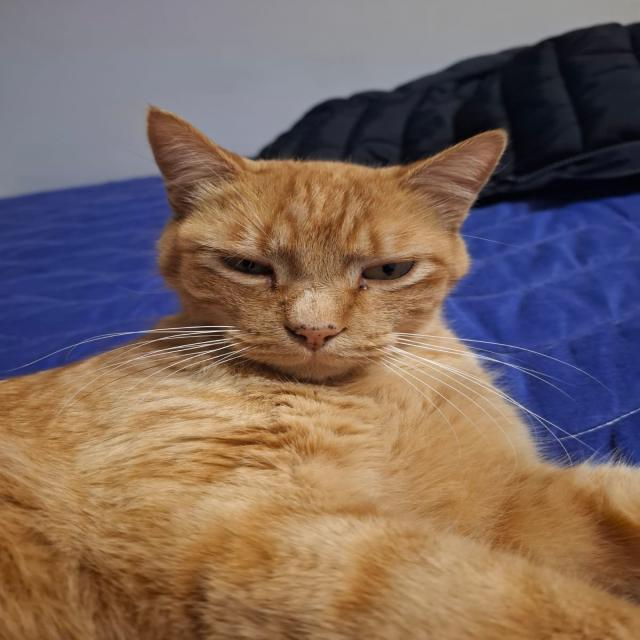Left_ear: (401, 125, 512, 228)
Left_eye: (360, 255, 419, 286)
Nouse: (287, 321, 348, 355)
Right_ear: (145, 104, 236, 202)
Right_eye: (215, 249, 282, 290)
